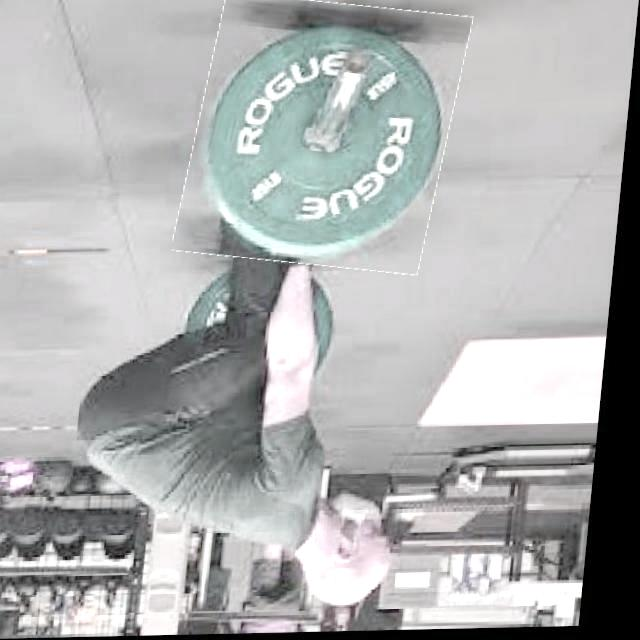barbell: (182, 1, 469, 275)
